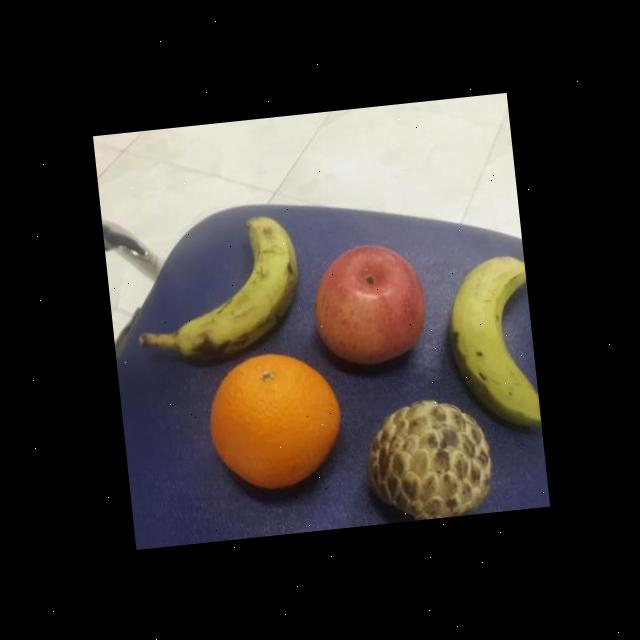Sakya fruit: (359, 389, 498, 524)
apple: (304, 236, 431, 370)
banana: (157, 208, 309, 366), (437, 253, 540, 438)
orange: (196, 343, 349, 498)
